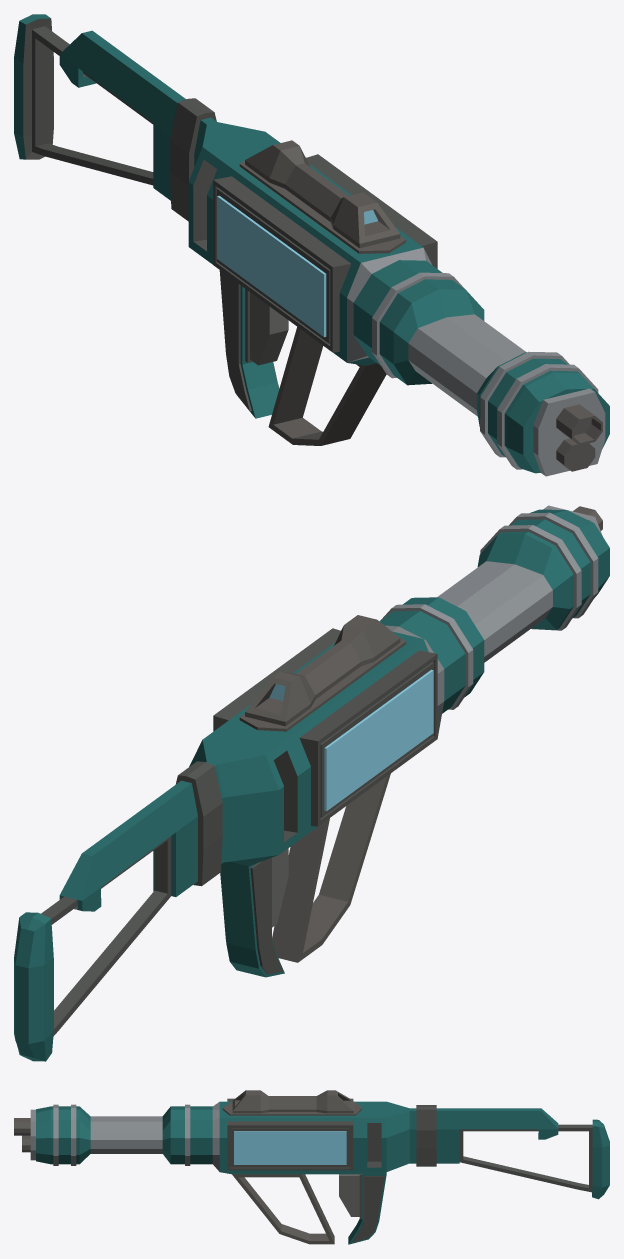
File: machinegun.fbx
3 views of the same model, one above another, from view 1: azimuth 30°, elevation 25°; view 2: azimuth 150°, elevation 25°; view 3: azimuth 270°, elevation 25° (orthographic). The views are drawn at different scales.
Visible parts, largest first — view 1: gunbase.001; view 2: gunbase.001; view 3: gunbase.001.
Part boxes in pixels (box(x1,y1,x2,y2)): gunbase.001: box(14, 14, 609, 476); gunbase.001: box(14, 505, 609, 1061); gunbase.001: box(14, 1090, 609, 1244).
Bounding box in the file's own units: 0.3103 × 2.77 × 0.7609.
